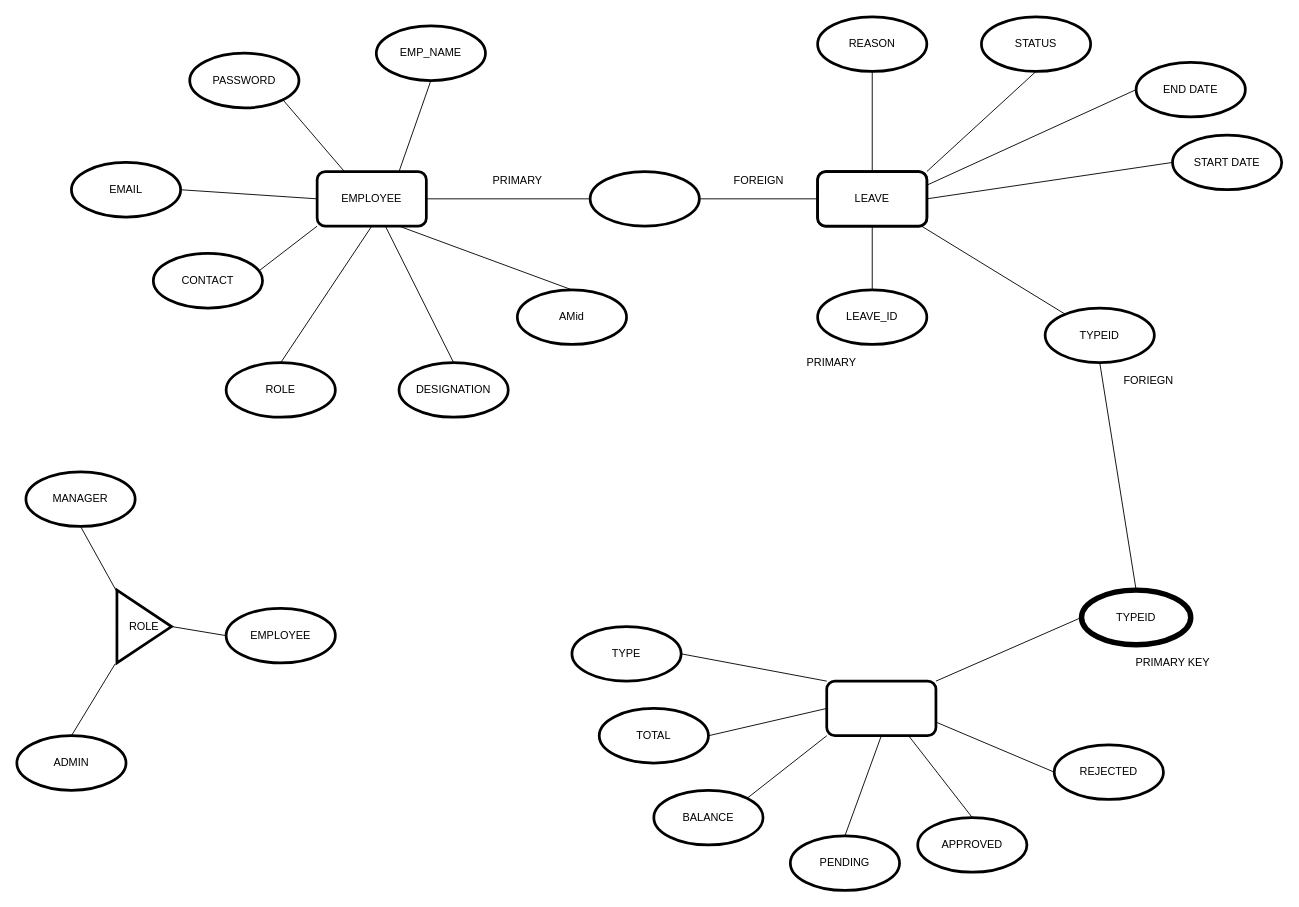
Image size: 1299x907. Some labels were removed from this diagram. Each missing label, with the centre of its shape:
"ID" belongs at (644,198).
"TYPEINFO" belongs at (881,708).
